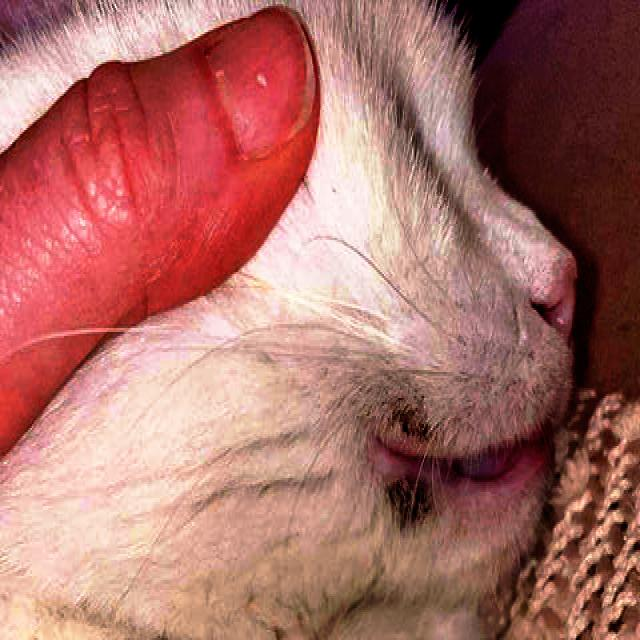acne: (382, 378, 432, 454), (388, 467, 433, 536)
